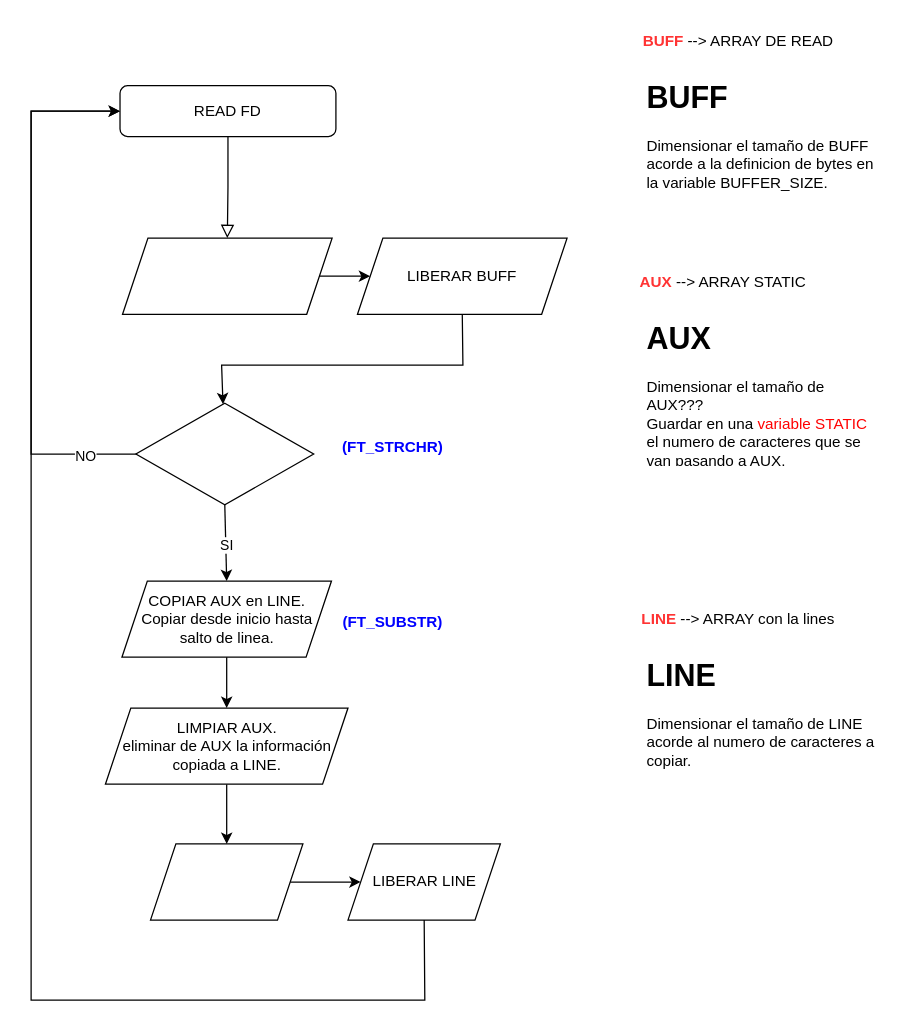
The diagram is 904 pixels wide and 1033 high, and some of its shapes have lost their labels. The box of each missing label's shape, as (x1, y1, x2, y2) in pixels:
COPIAR BUFF en AUX: (121, 237, 332, 314)
HAY SALTO?: (135, 402, 314, 505)
RETURN LINE: (149, 843, 303, 920)
